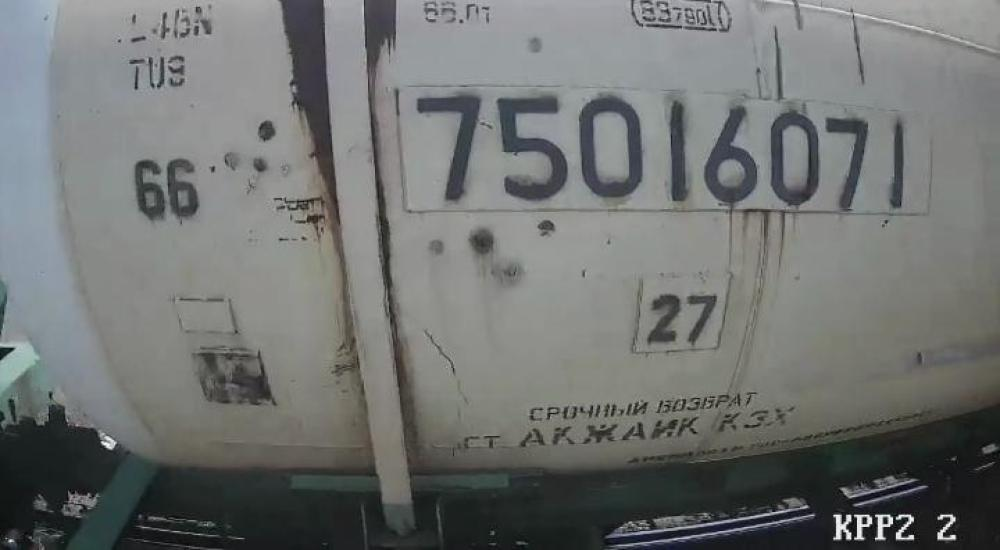Wagon-number: (408, 82, 910, 216)
